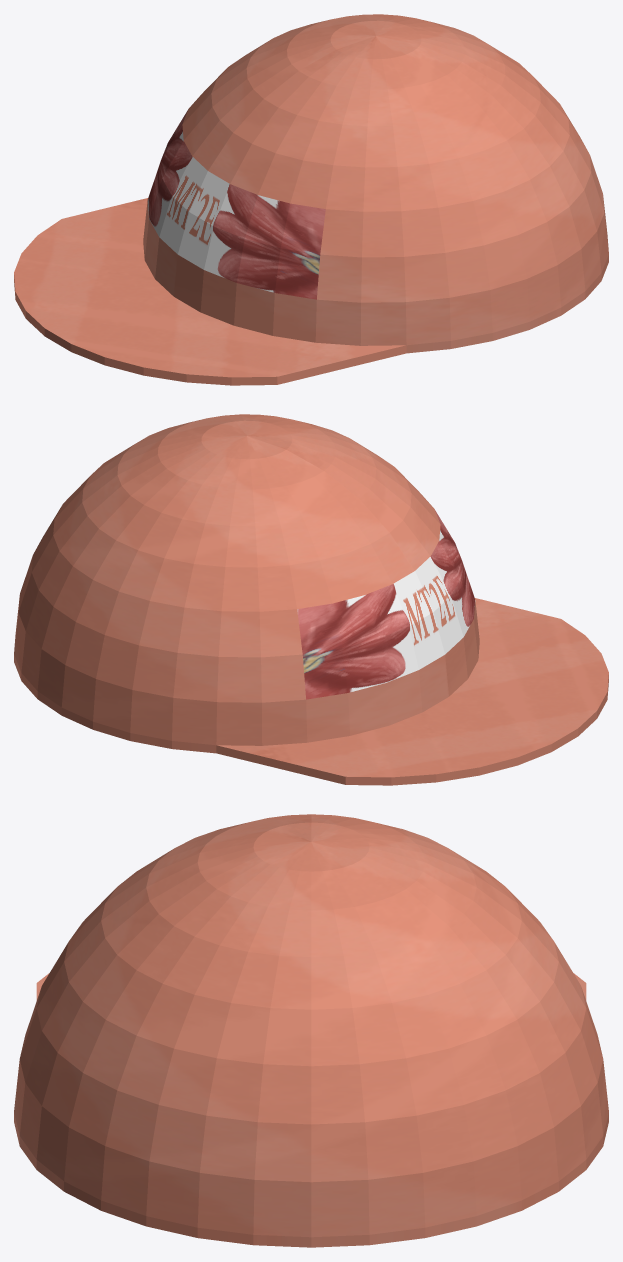
Rendered from CasquetteRouge.glb.
The picture shows the model from 3 angles, top to bottom: view 1: azimuth 30°, elevation 25°; view 2: azimuth 150°, elevation 25°; view 3: azimuth 270°, elevation 25°; orthographic projection. The views are drawn at different scales.
Parts seen in each view (by area): view 1: Sphere; view 2: Sphere; view 3: Sphere.
Boxes of the visible parts, left/top/right/bottom form: Sphere: left=14, top=14, right=608, bottom=385; Sphere: left=14, top=414, right=608, bottom=785; Sphere: left=14, top=814, right=608, bottom=1247.
Bounding box in the file's own units: 0.2639 × 0.1039 × 0.2.
2 materials, 2 textured.
